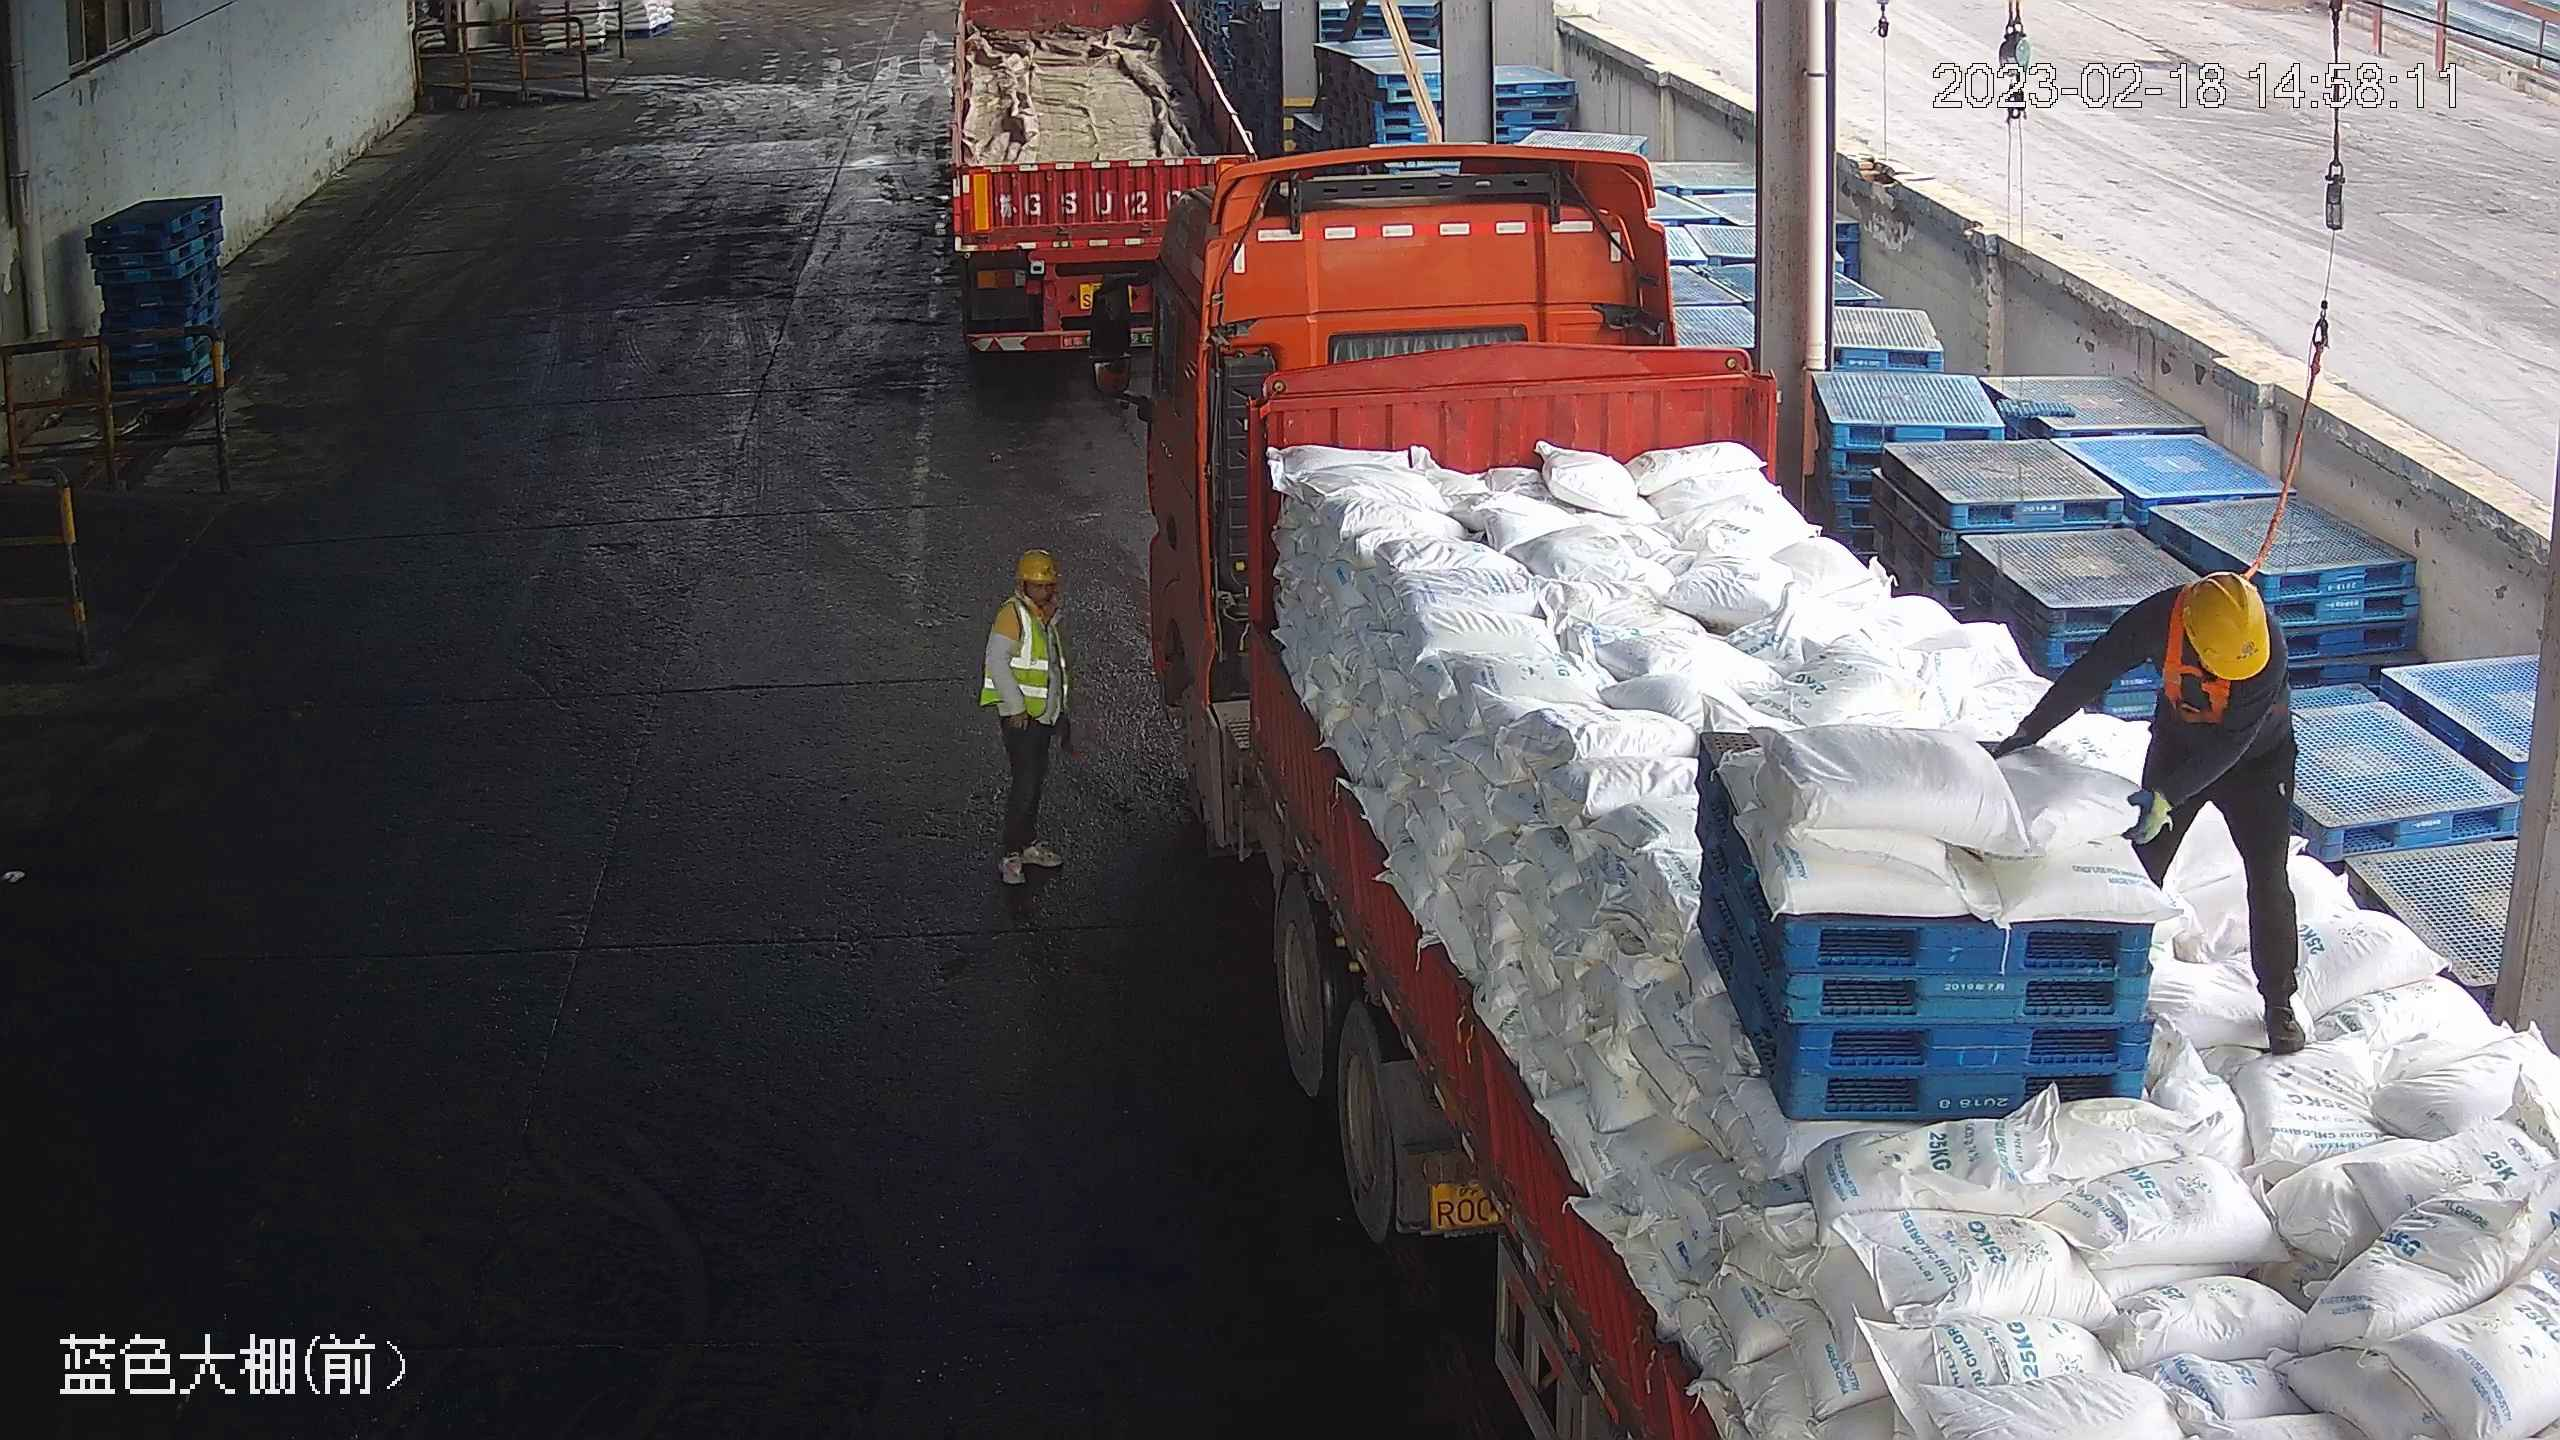belt: (2158, 558, 2247, 721)
head: (2134, 574, 2283, 720), (984, 548, 1081, 659)
helmet: (2180, 571, 2276, 679), (1015, 548, 1058, 584)
people: (1992, 569, 2314, 1053), (976, 544, 1085, 880)
truck: (1108, 154, 2558, 1440), (903, 1, 1246, 341)
